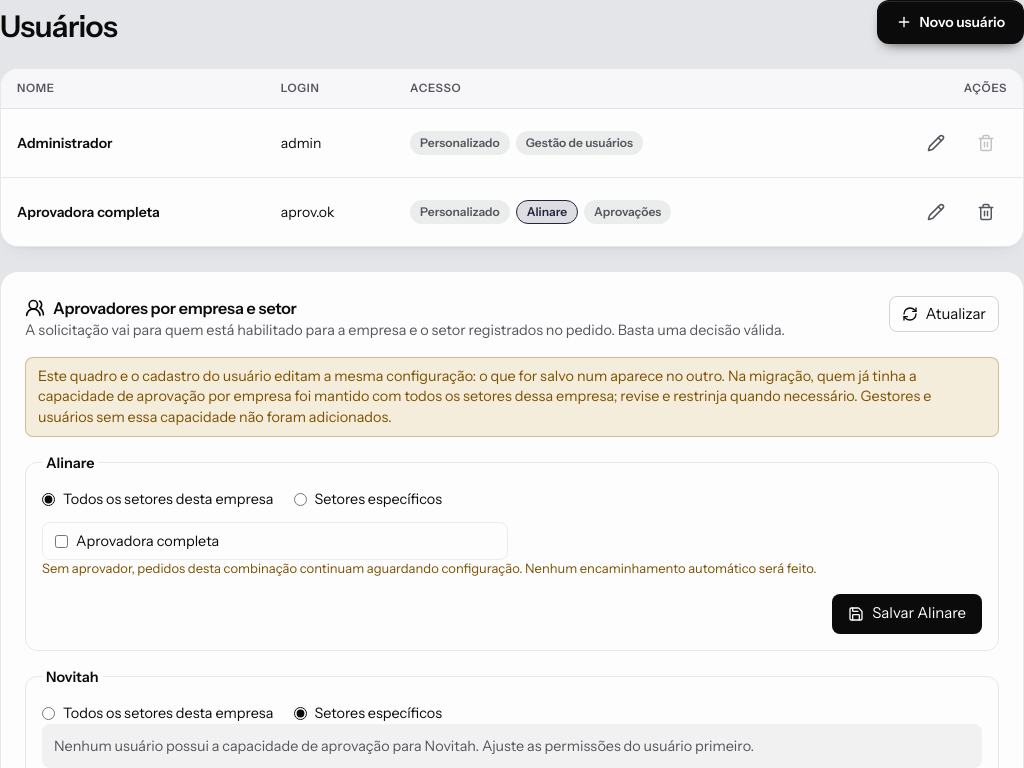
Scenario: cadastro oficial de usuários por tela › administrador padrão continua com login e acesso fixos
Expected: the cell "Administrador" is shown, [1,109,265,178]
Click the button named "Editar Administrador": click(936, 143) [915,122,957,164]
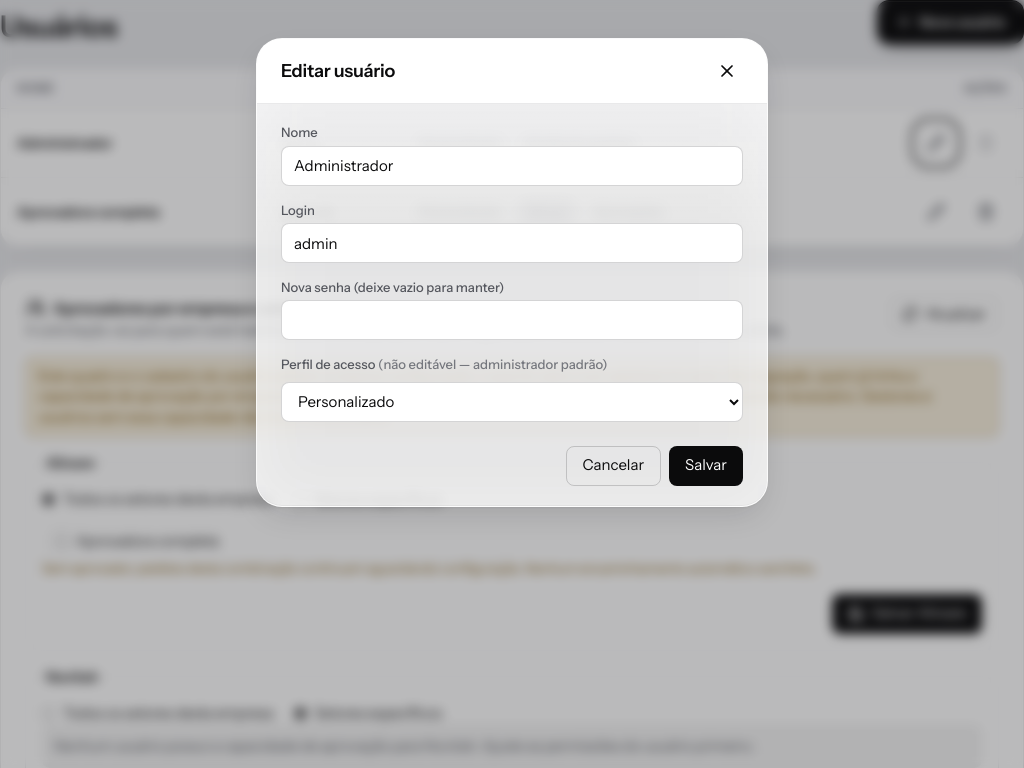
Expected: the dropdown labelled "Perfil de acesso (não editável — administrador padrão)" is disabled, [281,382,743,422]
